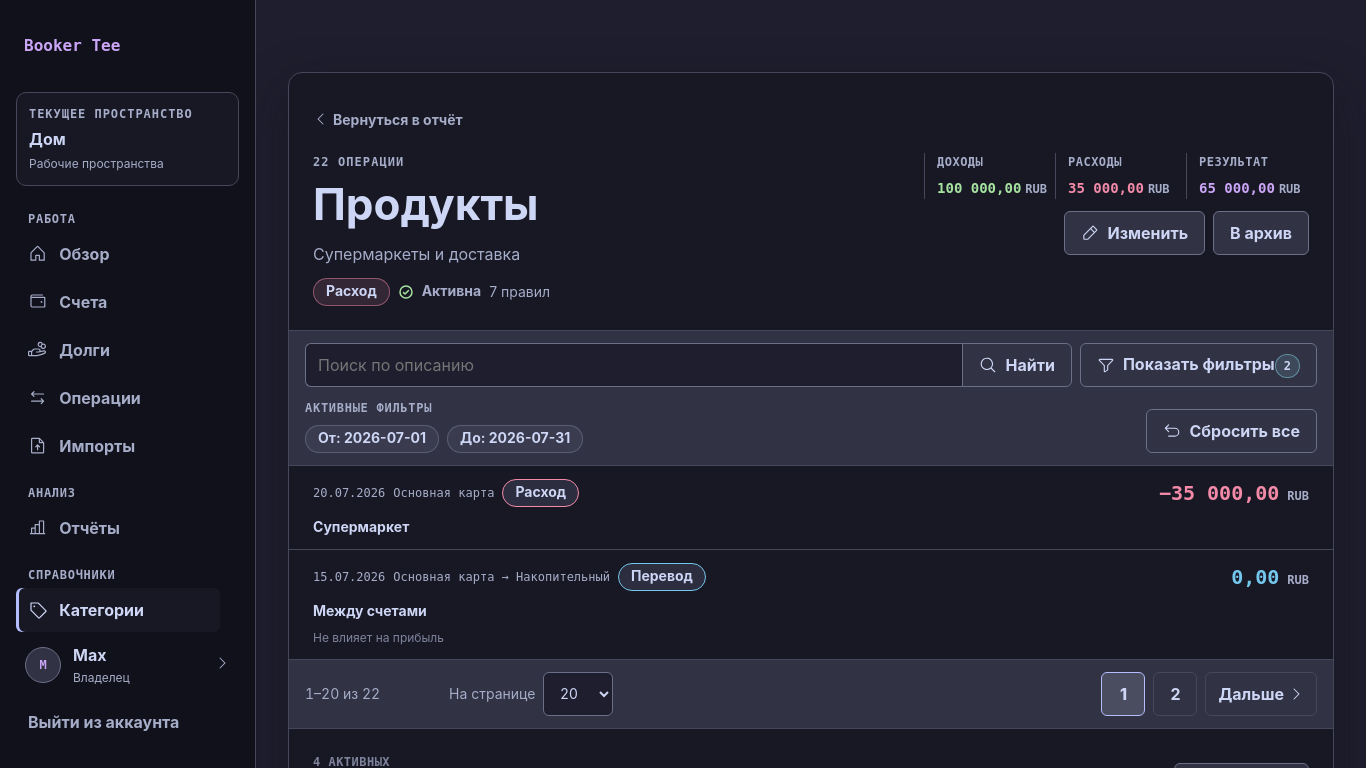
it: CategoryDetailPage › applies detail filters and retains report context
Click the button "Показать фильтры 2" at (1198, 365), box [1080,343,1317,387]
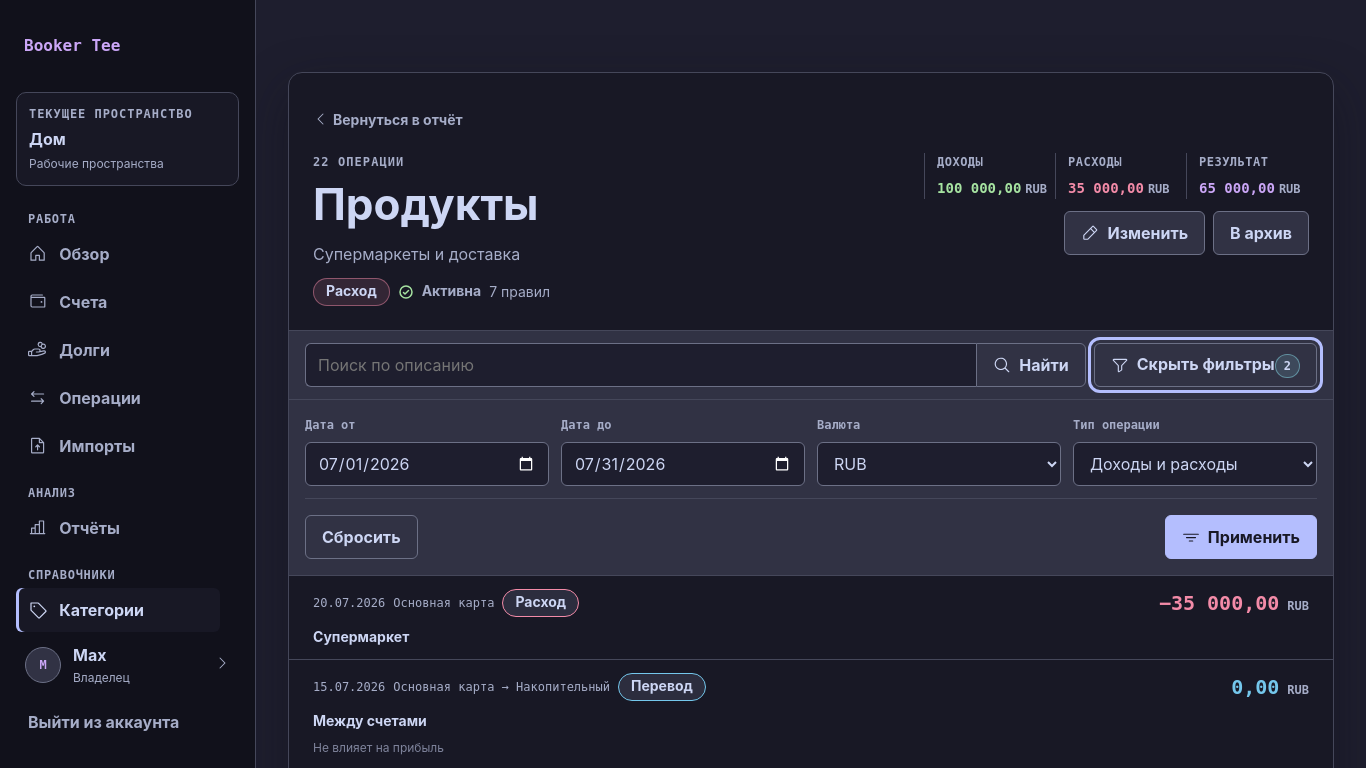
Type "2026-08-01" into the date field labelled "Дата от" at (427, 464), box [305,442,549,486]
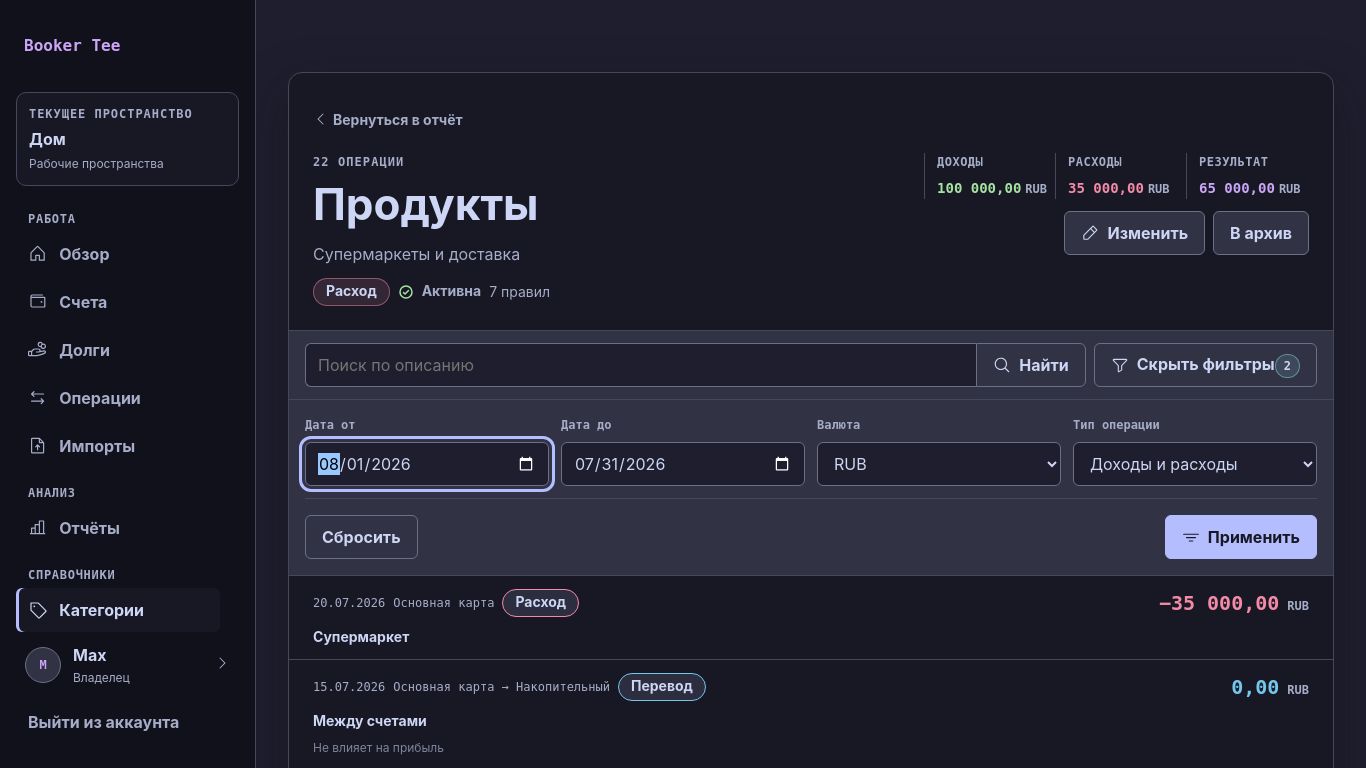
Select "USD" in the dropdown labelled "Валюта" at (939, 464), box [817,442,1061,486]
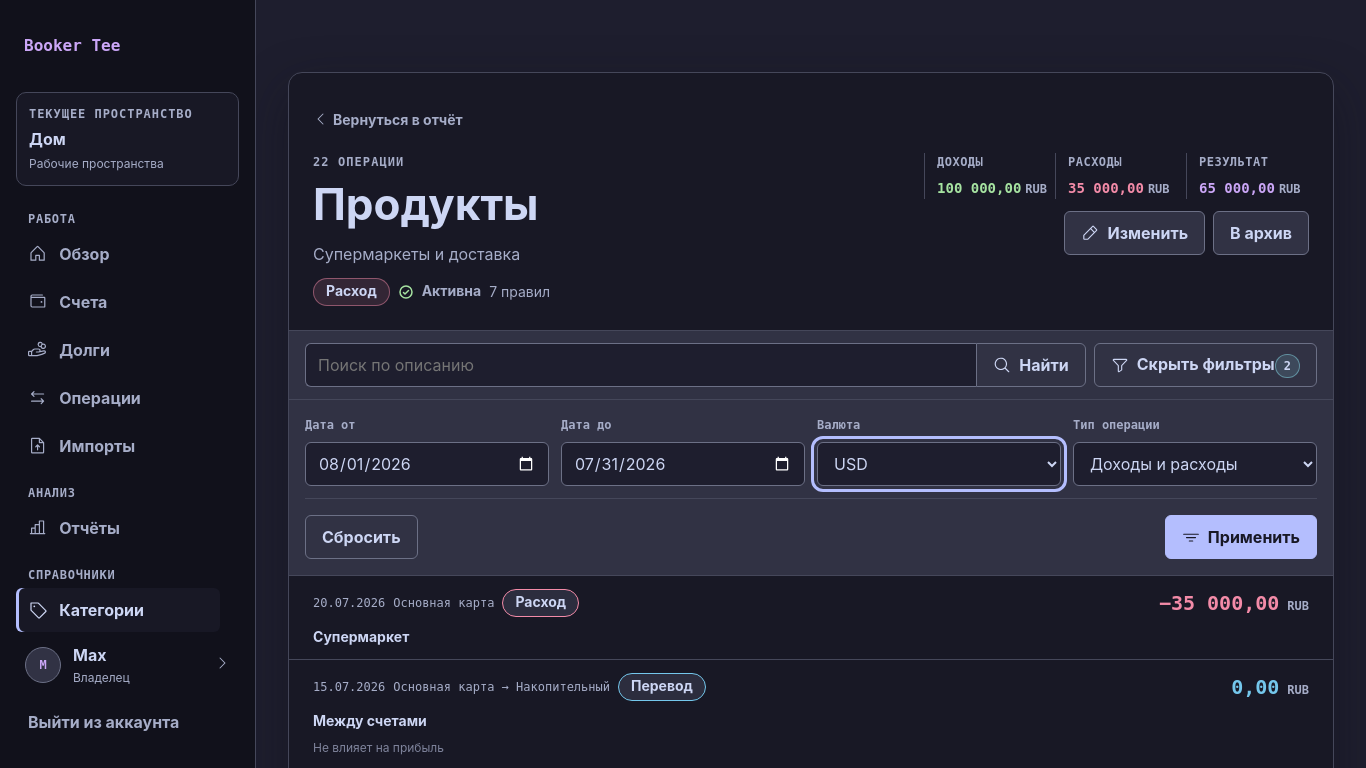
Select "Расходы" in the dropdown labelled "Тип операции" at (1195, 464), box [1073,442,1317,486]
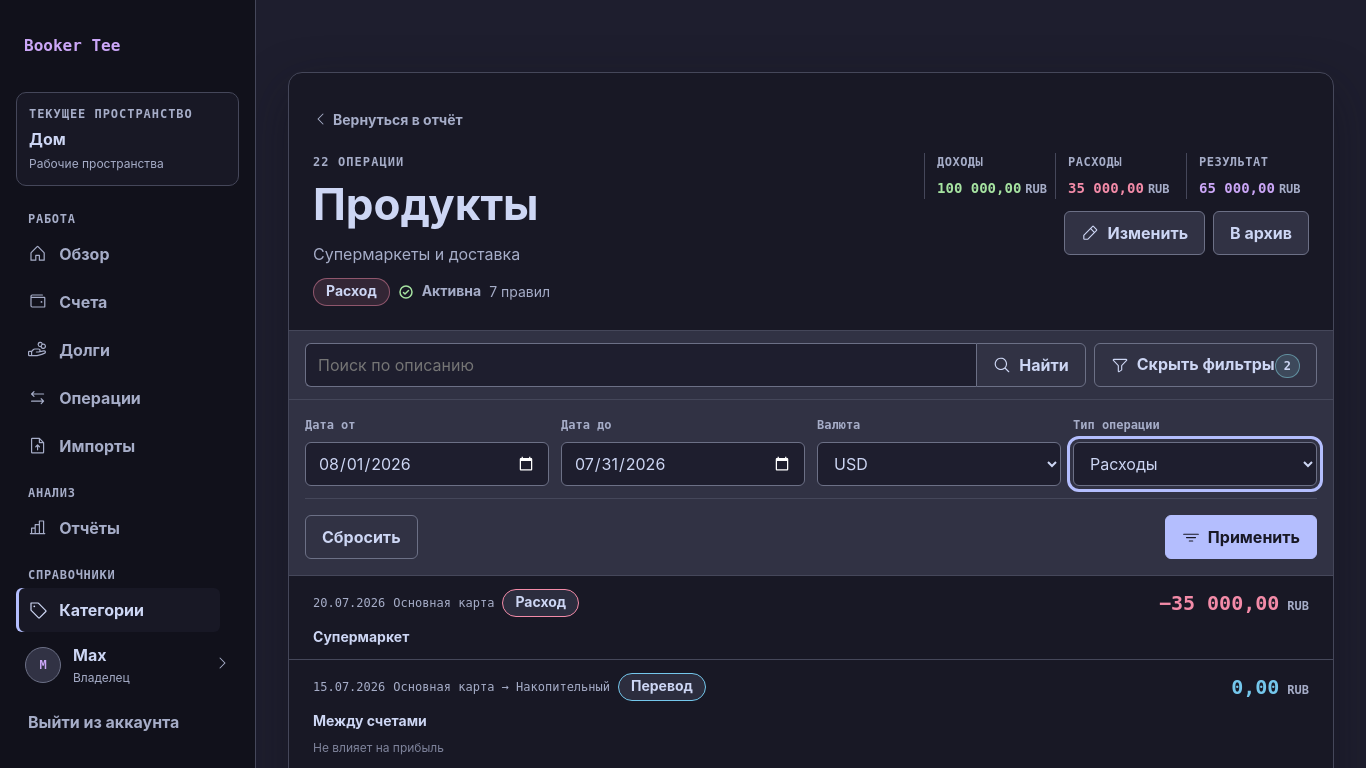
Click the button "Применить" at (1241, 537), box [1165,515,1317,559]
(page scrolled)
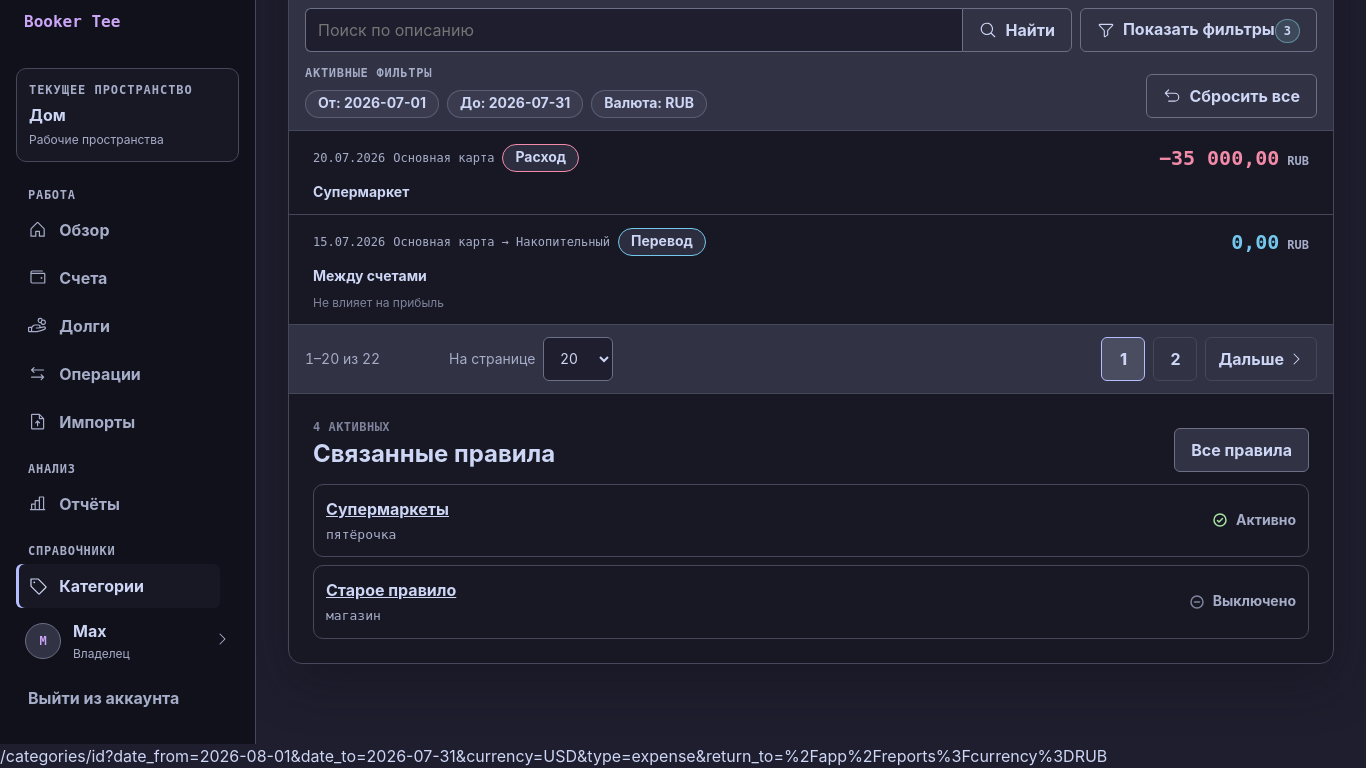
Expected: the text with test id "location" shows "date_from=2026-08-01", [105,746,1107,766]
Expected: the text with test id "location" shows "currency=USD", [105,746,1107,766]
Expected: the text with test id "location" shows "type=expense", [105,746,1107,766]
